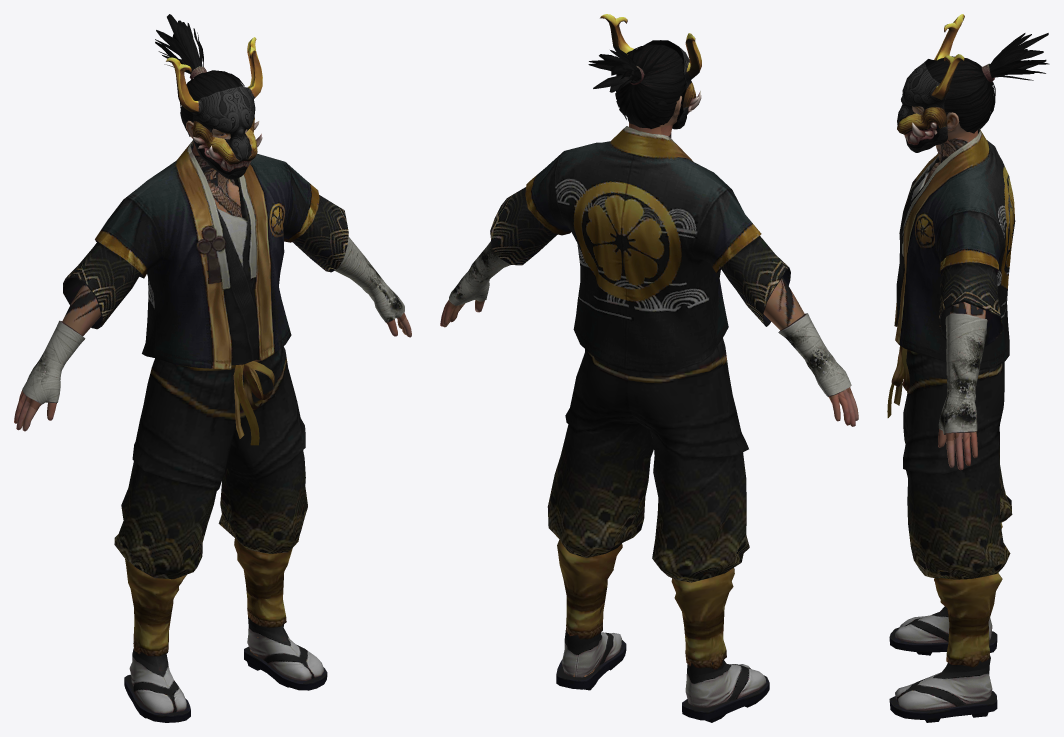
The model's file is NinjaNoRig.fbx.
3 renders of one model, left to right at view 1: azimuth 30°, elevation 25°; view 2: azimuth 150°, elevation 25°; view 3: azimuth 270°, elevation 25°, orthographic. The views are drawn at different scales.
Parts seen in each view (by area): view 1: Mesh_0013.rip, Mesh_0012.rip, Mesh_0011.rip, Mesh_0014.rip, Mesh_0010.rip, Mesh_0046.rip; view 2: Mesh_0013.rip, Mesh_0012.rip, Mesh_0011.rip, Mesh_0046.rip, Mesh_0010.rip, Mesh_0014.rip; view 3: Mesh_0013.rip, Mesh_0012.rip, Mesh_0011.rip, Mesh_0046.rip, Mesh_0014.rip, Mesh_0010.rip.
Part boxes in pixels (bbox=[...]): Mesh_0013.rip: bbox=[22, 140, 404, 404]; Mesh_0012.rip: bbox=[114, 346, 307, 656]; Mesh_0011.rip: bbox=[124, 617, 327, 722]; Mesh_0014.rip: bbox=[166, 37, 262, 179]; Mesh_0010.rip: bbox=[14, 120, 411, 656]; Mesh_0046.rip: bbox=[155, 14, 244, 136]; Mesh_0013.rip: bbox=[449, 126, 851, 396]; Mesh_0012.rip: bbox=[547, 338, 749, 669]; Mesh_0011.rip: bbox=[556, 628, 769, 722]; Mesh_0046.rip: bbox=[588, 40, 686, 128]; Mesh_0010.rip: bbox=[440, 96, 858, 705]; Mesh_0014.rip: bbox=[600, 14, 701, 129]; Mesh_0013.rip: bbox=[894, 128, 1015, 434]; Mesh_0012.rip: bbox=[887, 346, 1012, 667]; Mesh_0011.rip: bbox=[889, 606, 997, 722]; Mesh_0046.rip: bbox=[925, 33, 1049, 133]; Mesh_0014.rip: bbox=[897, 14, 964, 152]; Mesh_0010.rip: bbox=[912, 106, 991, 694].
Bounding box in the file's own units: 156 × 243 × 55.14.
